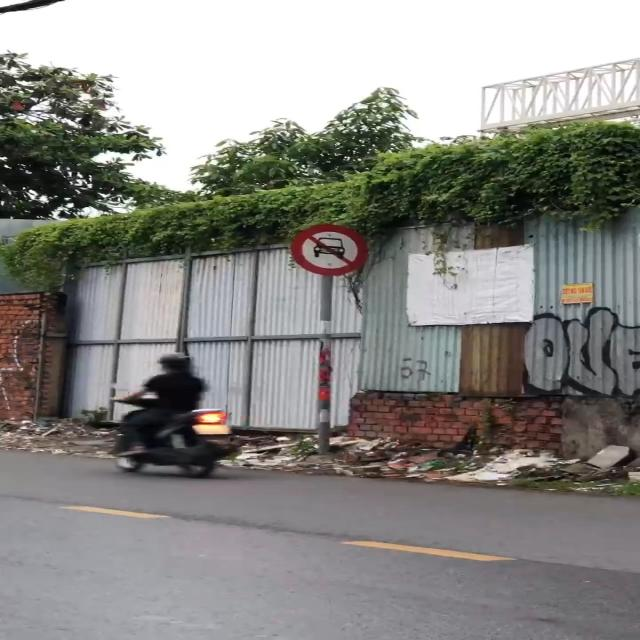Bien bao cam xe oto: (287, 221, 372, 277)
